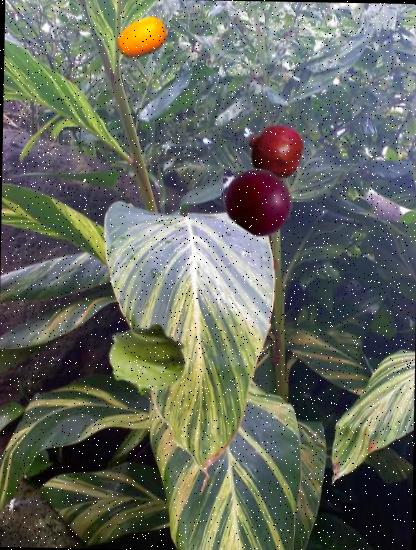Cherry: (224, 166, 294, 237)
Kohlrabi: (105, 318, 188, 400)
Kumquats: (116, 12, 168, 64)
Pomegranate: (246, 122, 304, 180)
